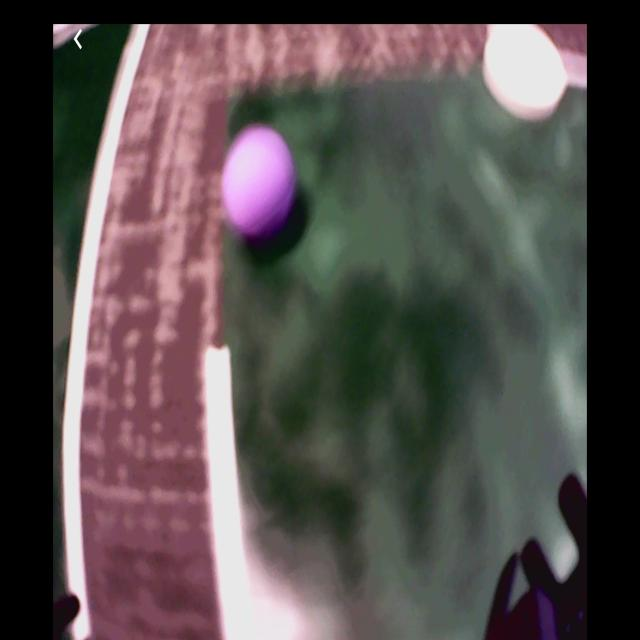ball: (223, 123, 295, 239)
